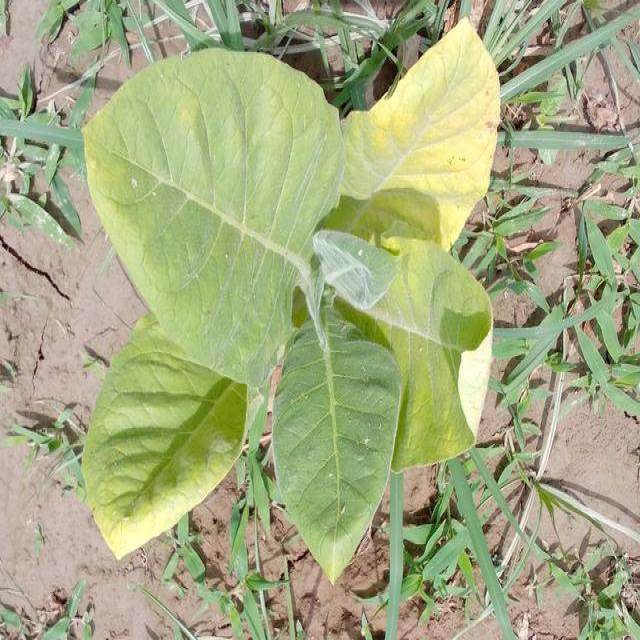crop: (83, 20, 494, 589)
